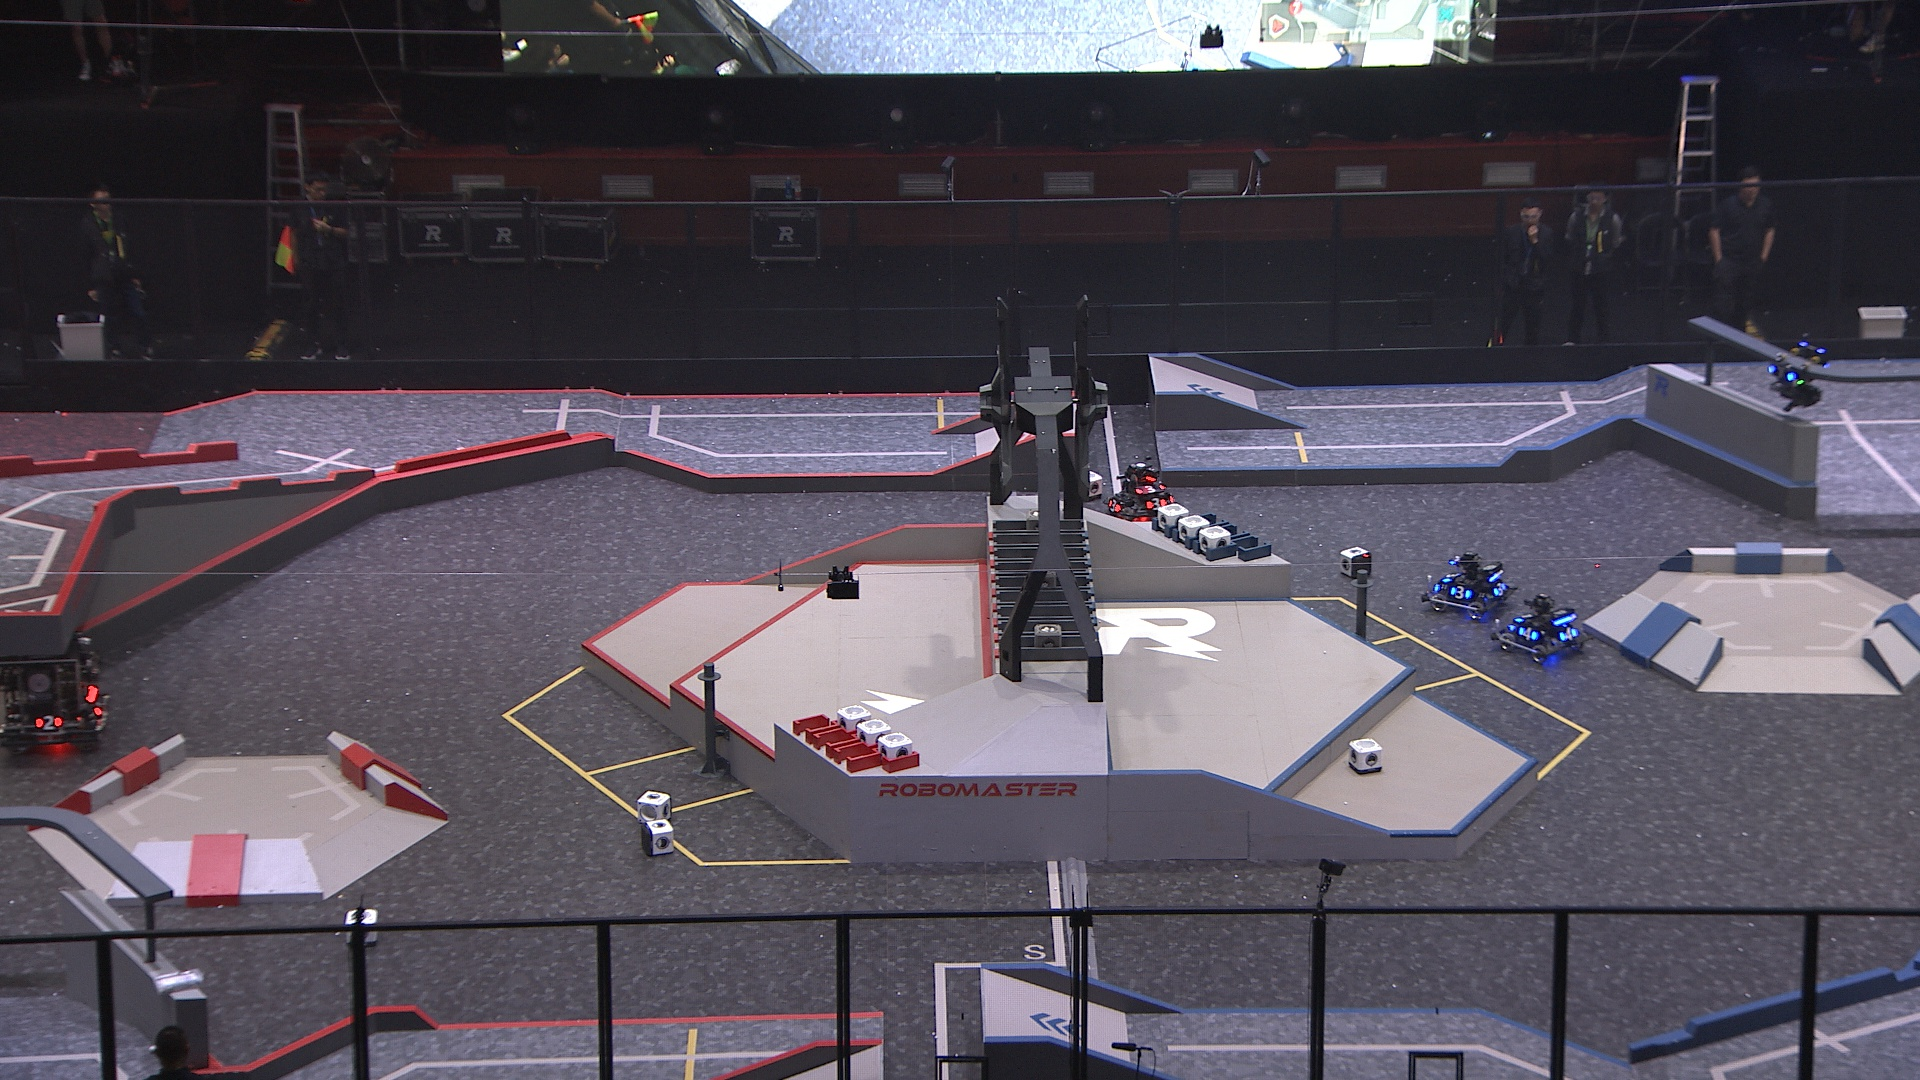armor: (1768, 360, 1797, 385), (34, 711, 65, 731), (86, 695, 111, 717), (1513, 608, 1538, 626), (1134, 481, 1168, 495), (1449, 583, 1472, 603), (1557, 624, 1577, 645), (1145, 495, 1167, 513), (1439, 567, 1460, 585), (1515, 626, 1538, 644), (1490, 579, 1509, 599), (1106, 496, 1120, 516)
car: (1489, 589, 1602, 665), (1420, 549, 1518, 621), (1101, 458, 1179, 531)
watcher: (1760, 328, 1832, 414)
